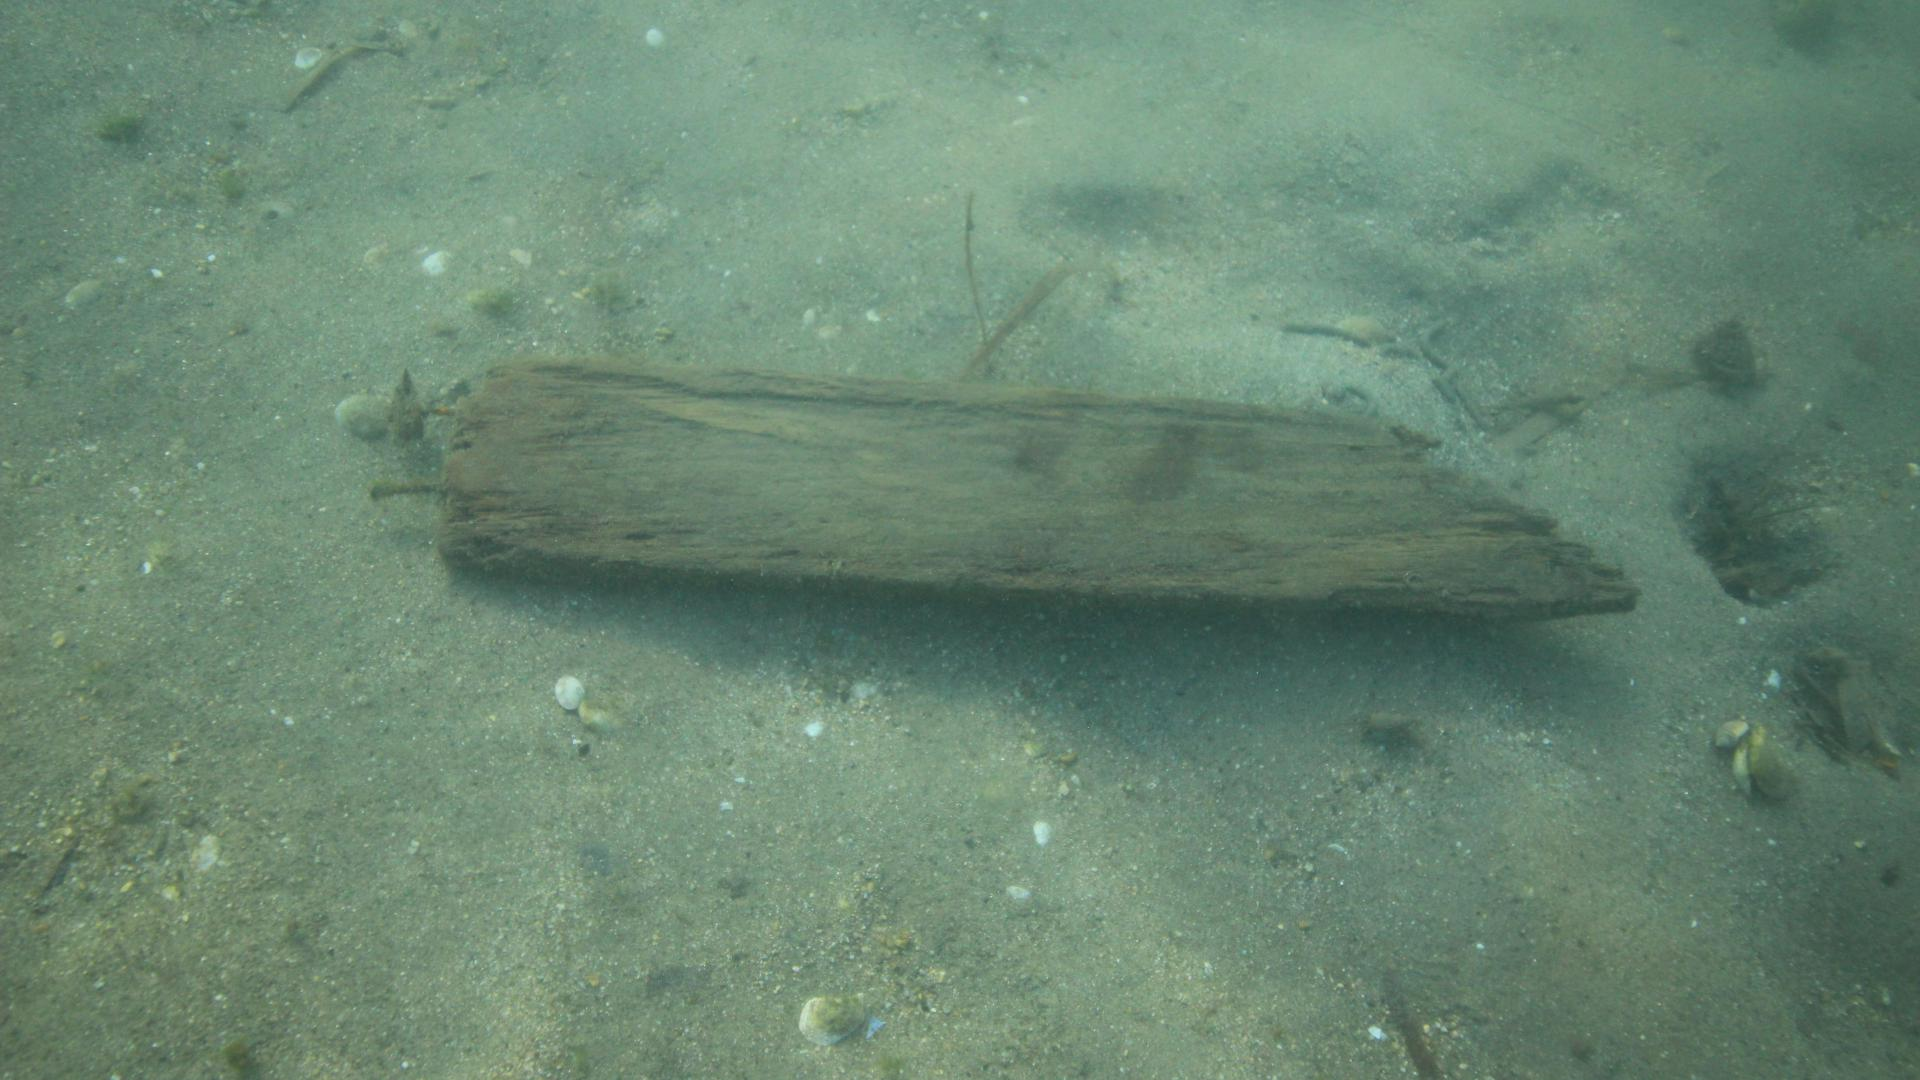wood: (436, 355, 1642, 629)
